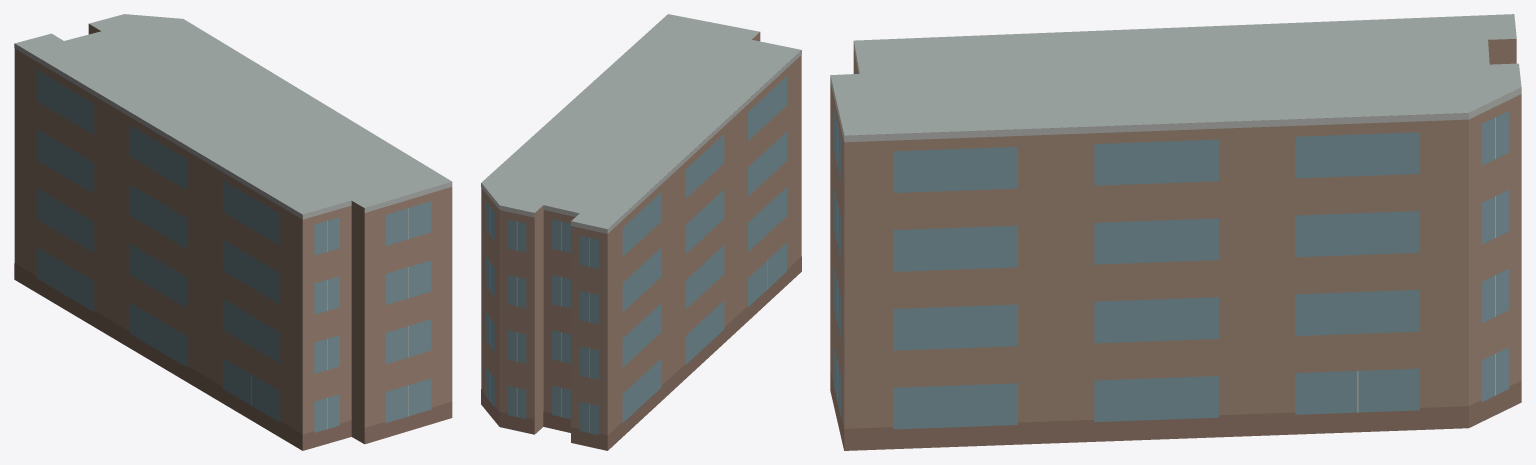
File: survey-upis-32757664.glb
The picture shows the model from 3 angles, left to right: view 1: azimuth 30°, elevation 25°; view 2: azimuth 150°, elevation 25°; view 3: azimuth 270°, elevation 25°; orthographic projection. The views are drawn at different scales.
Visible parts, largest first — view 1: survey-upis-32757664.tmp; view 2: survey-upis-32757664.tmp; view 3: survey-upis-32757664.tmp.
Boxes of the visible parts, x1,y1,x2,y2 form: survey-upis-32757664.tmp: [14, 14, 452, 450]; survey-upis-32757664.tmp: [481, 14, 801, 450]; survey-upis-32757664.tmp: [830, 14, 1521, 450].
Bounding box in the file's own units: 9.53 × 11.5 × 22.86.
